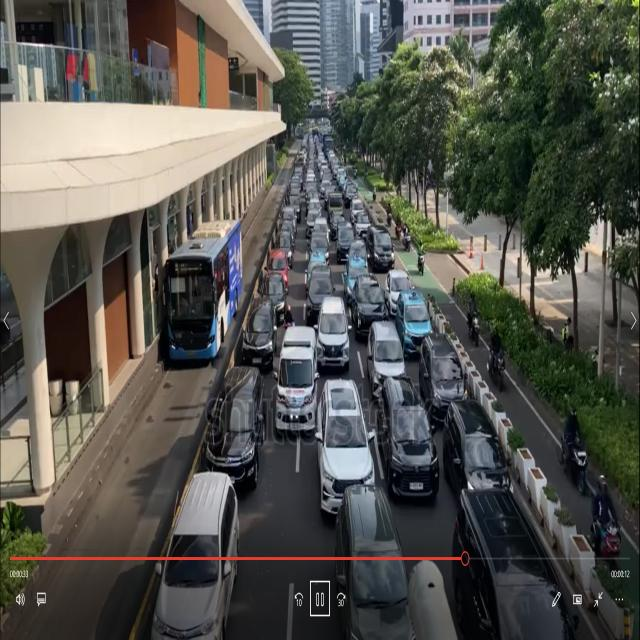Ambulance: (269, 313, 320, 455)
